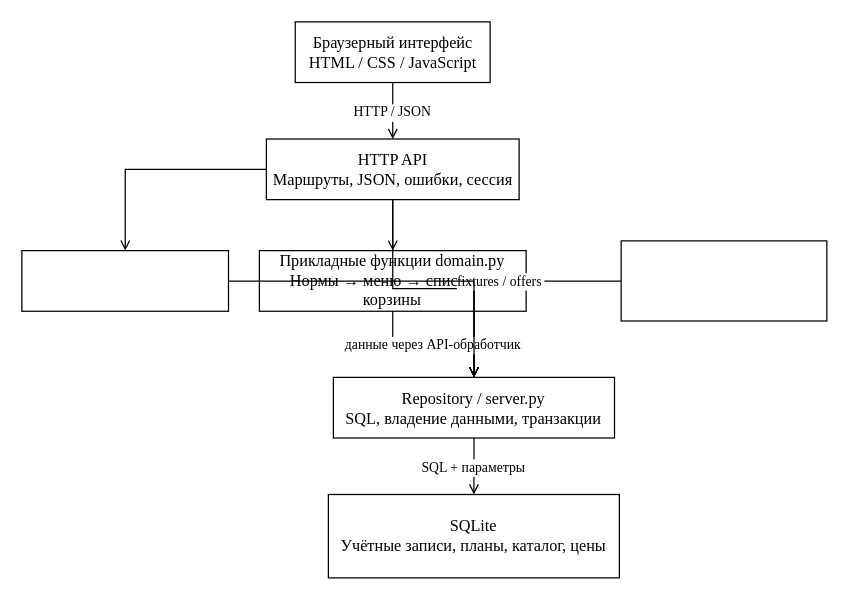
Image size: 849x600. Some labels were removed from this diagram. The box of each missing label's shape, as (x1, y1, x2, y2) in pixels:
AuthService Регистрация, вход, bcrypt: (21, 249, 228, 311)
DemoPriceProvider Учебные предложения Будущий внешний адаптер: (620, 240, 827, 321)
